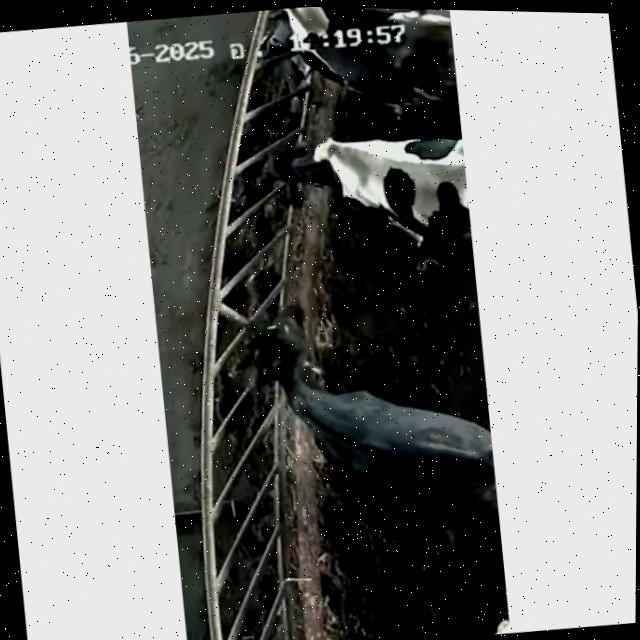eat: (188, 108, 390, 224), (211, 5, 389, 94)
